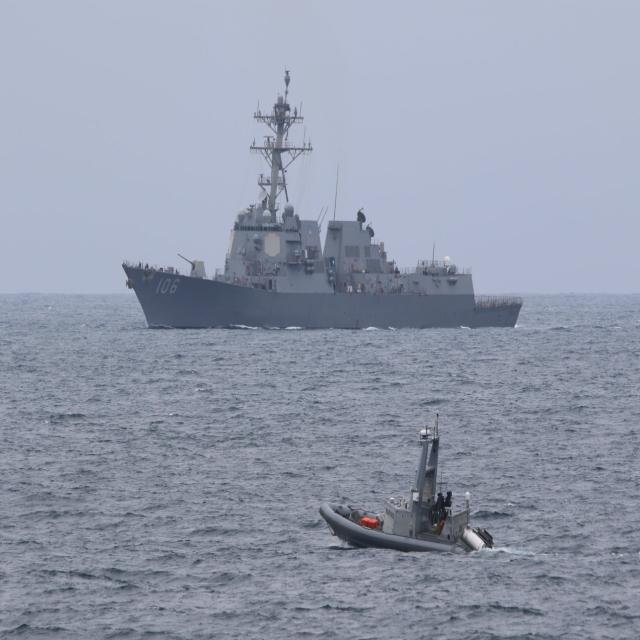fishing boat: (314, 392, 505, 556)
navalvessels: (93, 49, 527, 344)
